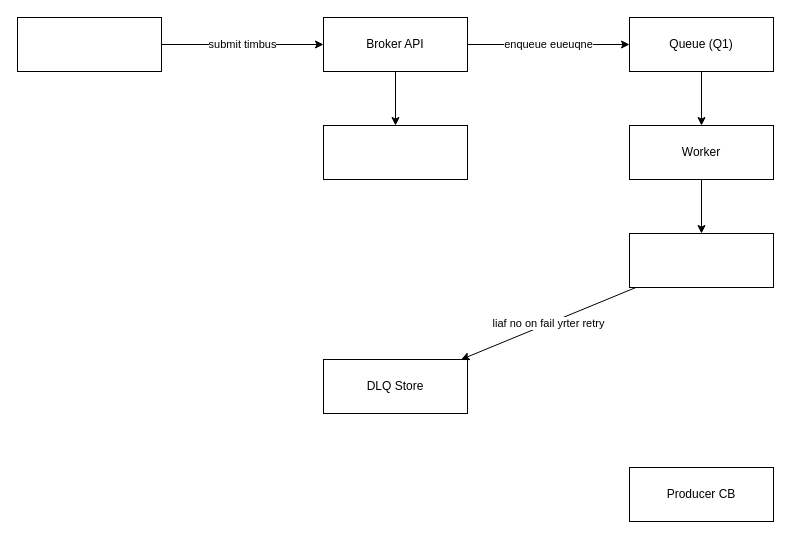
Image size: 791x539. Some labels were removed from this diagram. The shapes that lost their labels are listed below. From the top down, each one's box as (x1, y1, x2, y2) in pixels, then its label:
(16, 16, 162, 72): Producer
(322, 124, 468, 180): Job Index
(628, 232, 774, 288): Task Handler
